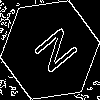N: (25, 25, 80, 82)
